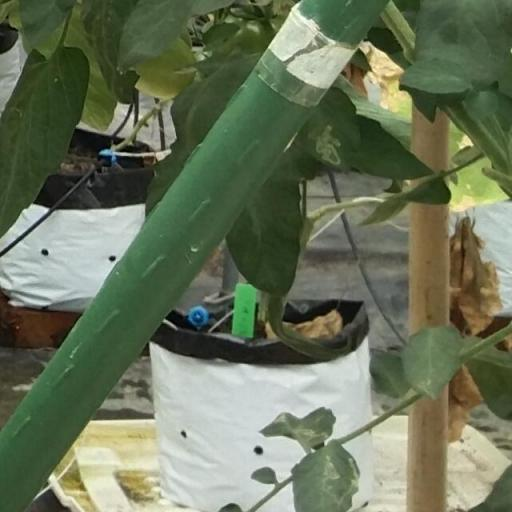Healthy: (0, 43, 91, 236)
Leaf_Miner: (295, 87, 360, 176), (291, 438, 361, 512)
